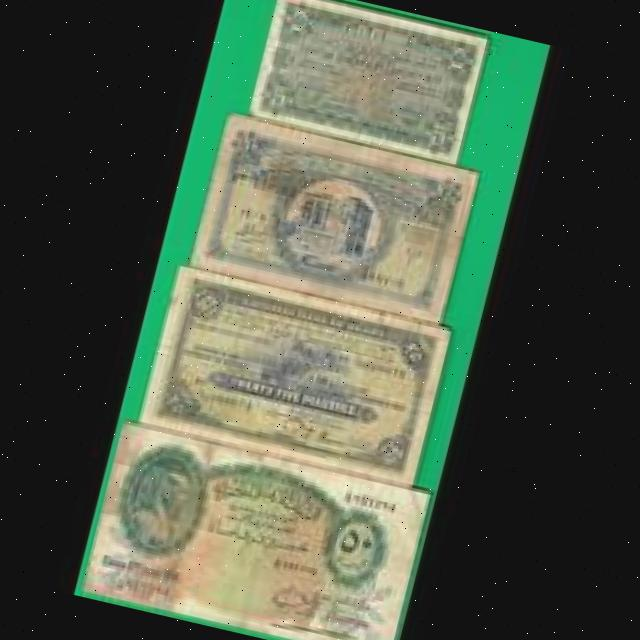banknote: (77, 417, 435, 640), (137, 260, 454, 488), (182, 102, 491, 324), (247, 0, 492, 163)
